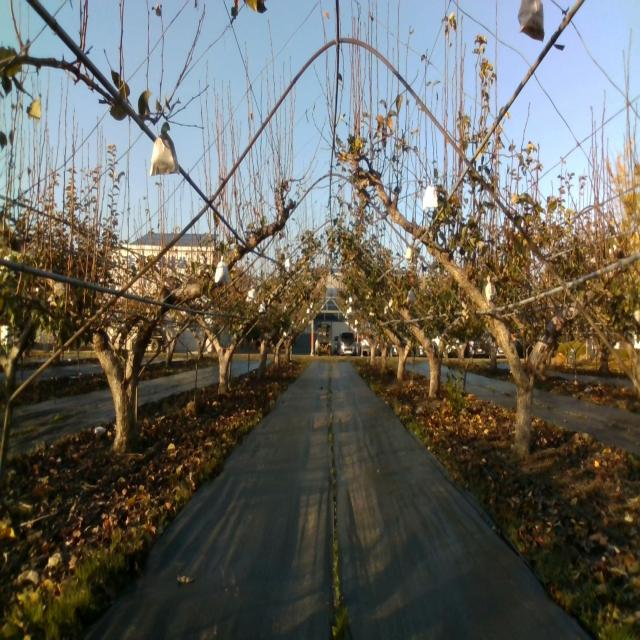pearbags: (148, 132, 180, 177), (516, 0, 547, 42), (422, 182, 439, 212), (214, 256, 231, 284), (486, 274, 496, 302), (246, 285, 257, 303)
